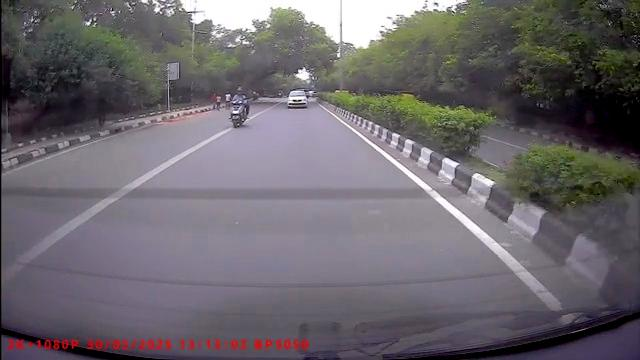motorcycle_with_helmet: (228, 85, 250, 129)
